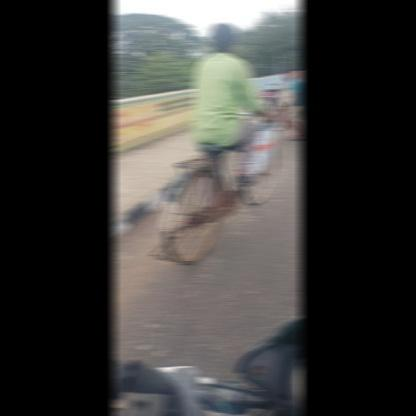Bicycle: (141, 111, 292, 281)
